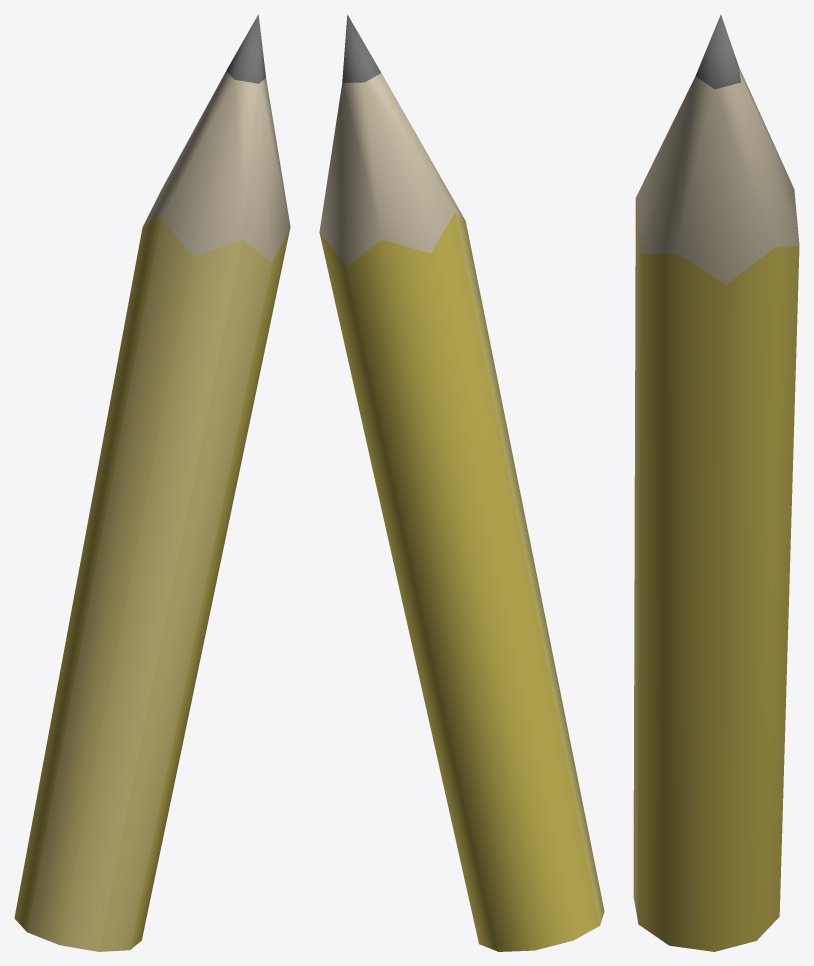
File: PencilC.glb
3 renders of one model, left to right at view 1: azimuth 30°, elevation 25°; view 2: azimuth 150°, elevation 25°; view 3: azimuth 270°, elevation 25°, orthographic. The views are drawn at different scales.
Parts seen in each view (by area): view 1: PencilC; view 2: PencilC; view 3: PencilC.
Part boxes in pixels (x1,y1,x2,y2): PencilC: (14,14,290,951); PencilC: (319,14,604,951); PencilC: (633,14,799,951).
Bounding box in the file's own units: 0.0974 × 0.3191 × 0.0474.
